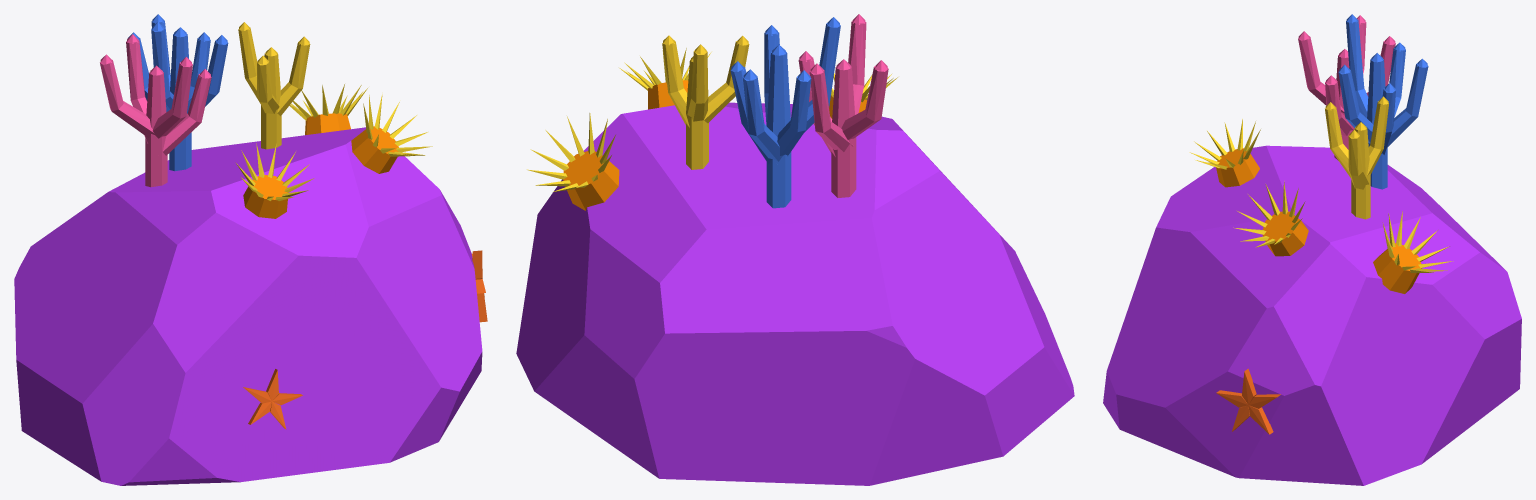
The model's file is ReefBoulder_Split.fbx.
3 renders of one model, left to right at view 1: azimuth 30°, elevation 25°; view 2: azimuth 150°, elevation 25°; view 3: azimuth 270°, elevation 25°, orthographic. The views are drawn at different scales.
Visible parts, largest first — view 1: ReefBoulder_PieceA, ReefBoulder_PieceB, ReefBoulder_CoralPink, ReefBoulder_CoralBlue_L, ReefBoulder_CoralYellow, ReefBoulder_Anemone_Base_R, ReefBoulder_Anemone_Tentacles_R, ReefBoulder_Anemone_Base_L, ReefBoulder_Starfish2, ReefBoulder_Anemone_Tentacles_L, ReefBoulder_Starfish; view 2: ReefBoulder_PieceA, ReefBoulder_PieceB, ReefBoulder_CoralBlue_L, ReefBoulder_CoralPink, ReefBoulder_CoralYellow, ReefBoulder_Anemone_Base_R, ReefBoulder_Anemone_Tentacles_R; view 3: ReefBoulder_PieceB, ReefBoulder_PieceA, ReefBoulder_CoralBlue_L, ReefBoulder_CoralYellow, ReefBoulder_Anemone_Base_R, ReefBoulder_CoralPink, ReefBoulder_Anemone_Tentacles_R, ReefBoulder_Starfish, ReefBoulder_Anemone_Base_L, ReefBoulder_Anemone_Tentacles_L.
Boxes of the visible parts, box(x1,y1,x2,y2) form: ReefBoulder_PieceA: box(14, 153, 356, 485); ReefBoulder_PieceB: box(191, 127, 482, 466); ReefBoulder_CoralPink: box(100, 34, 211, 187); ReefBoulder_CoralBlue_L: box(127, 14, 228, 171); ReefBoulder_CoralYellow: box(238, 22, 310, 149); ReefBoulder_Anemone_Base_R: box(305, 113, 398, 173); ReefBoulder_Anemone_Tentacles_R: box(286, 84, 432, 185); ReefBoulder_Anemone_Base_L: box(243, 175, 287, 218); ReefBoulder_Starfish2: box(243, 369, 302, 429); ReefBoulder_Anemone_Tentacles_L: box(235, 143, 308, 200); ReefBoulder_Starfish: box(472, 250, 487, 322); ReefBoulder_PieceA: box(657, 116, 1074, 485); ReefBoulder_PieceB: box(516, 102, 792, 477); ReefBoulder_CoralBlue_L: box(731, 17, 840, 208); ReefBoulder_CoralPink: box(798, 14, 888, 197); ReefBoulder_CoralYellow: box(662, 35, 749, 169); ReefBoulder_Anemone_Base_R: box(563, 80, 688, 210); ReefBoulder_Anemone_Tentacles_R: box(527, 48, 834, 191); ReefBoulder_PieceB: box(1103, 174, 1521, 485); ReefBoulder_PieceA: box(1163, 145, 1520, 389); ReefBoulder_CoralBlue_L: box(1338, 14, 1428, 189); ReefBoulder_CoralYellow: box(1325, 96, 1388, 219); ReefBoulder_Anemone_Base_R: box(1262, 211, 1421, 293); ReefBoulder_CoralPink: box(1298, 15, 1395, 160); ReefBoulder_Anemone_Tentacles_R: box(1208, 150, 1453, 272); ReefBoulder_Starfish: box(1216, 368, 1280, 434); ReefBoulder_Anemone_Base_L: box(1216, 148, 1259, 187); ReefBoulder_Anemone_Tentacles_L: box(1189, 119, 1260, 169).
Size of the model in its own units: 22.9 by 18.79 by 20.73.
